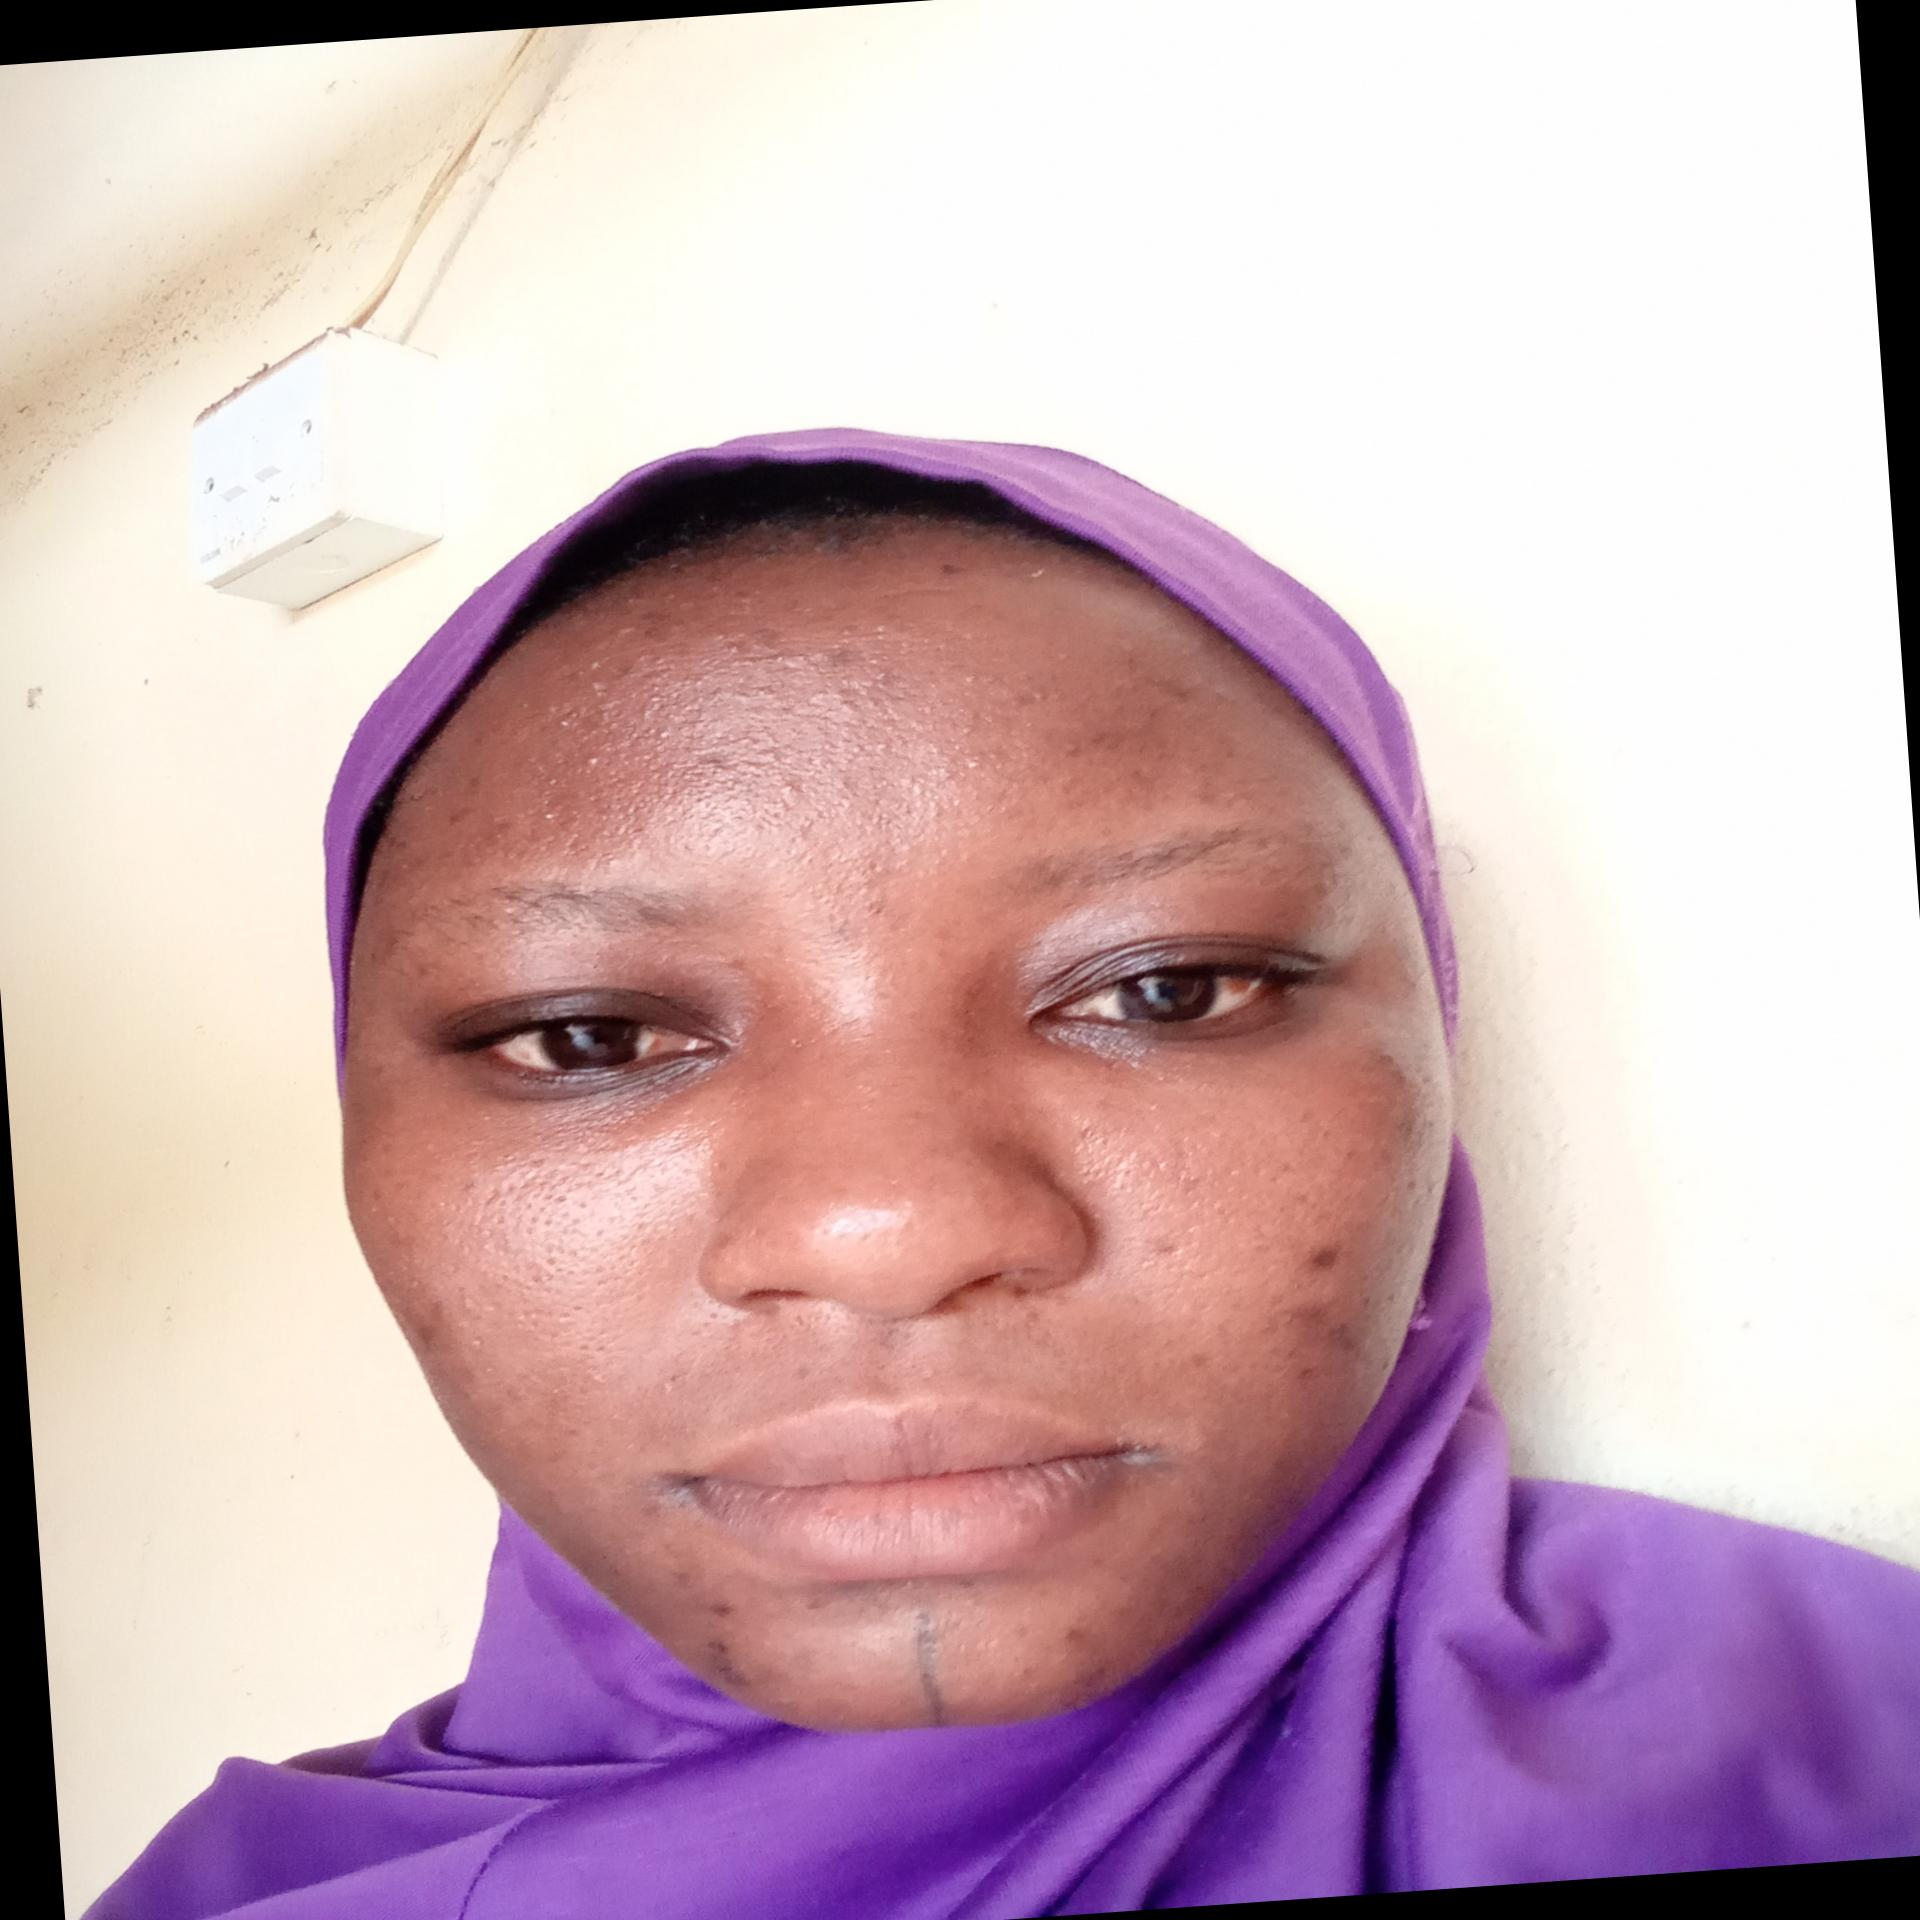Acne: (816, 622, 897, 665), (804, 673, 879, 717), (707, 1632, 754, 1690), (1299, 1238, 1349, 1284), (761, 772, 819, 809), (1053, 1660, 1108, 1693), (1271, 1357, 1327, 1387), (995, 682, 1060, 707), (1324, 1319, 1363, 1352), (1138, 1234, 1178, 1266), (709, 626, 744, 661), (577, 744, 615, 772), (956, 749, 992, 777), (1055, 1625, 1097, 1647), (1037, 647, 1073, 672), (547, 707, 584, 730), (948, 661, 979, 684), (700, 1596, 735, 1616), (587, 649, 607, 679), (1055, 738, 1081, 760), (536, 804, 563, 823)
Dark Circles: (403, 1060, 737, 1153), (1009, 1016, 1319, 1108)
Englarged Pores: (457, 1159, 689, 1356), (1094, 1125, 1319, 1278)
